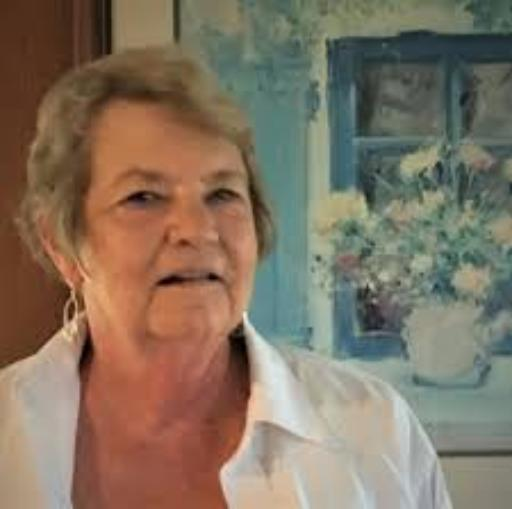left_eye: (202, 188, 243, 209)
left_lip_corner: (212, 274, 236, 295)
right_eye: (111, 191, 170, 212)
right_lip_corner: (147, 275, 171, 292)
